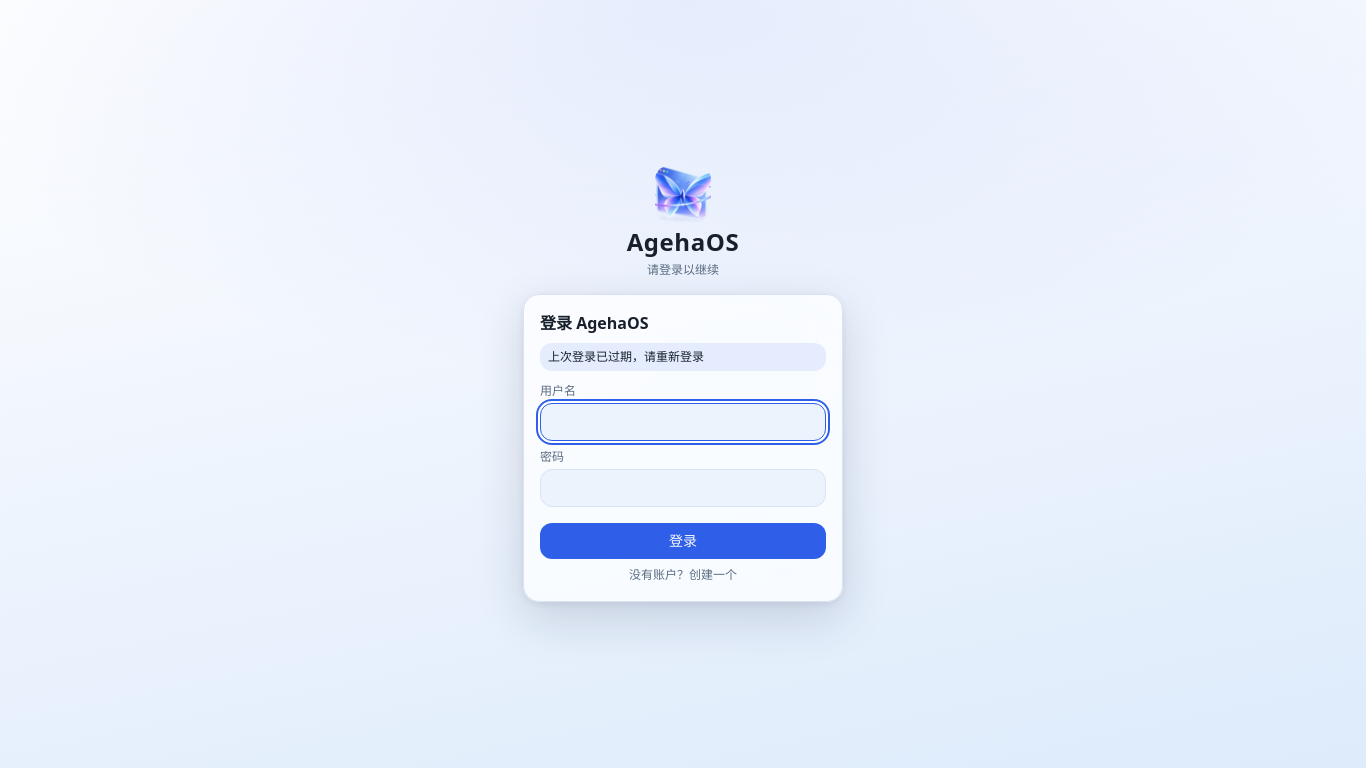
Test: LoginScreen › clears the expired notice when switching modes
Expected: the message "上次登录已过期，请重新登录" is shown, [540, 343, 826, 371]
Click the button "没有账户？创建一个": (683, 575) [540, 567, 826, 583]
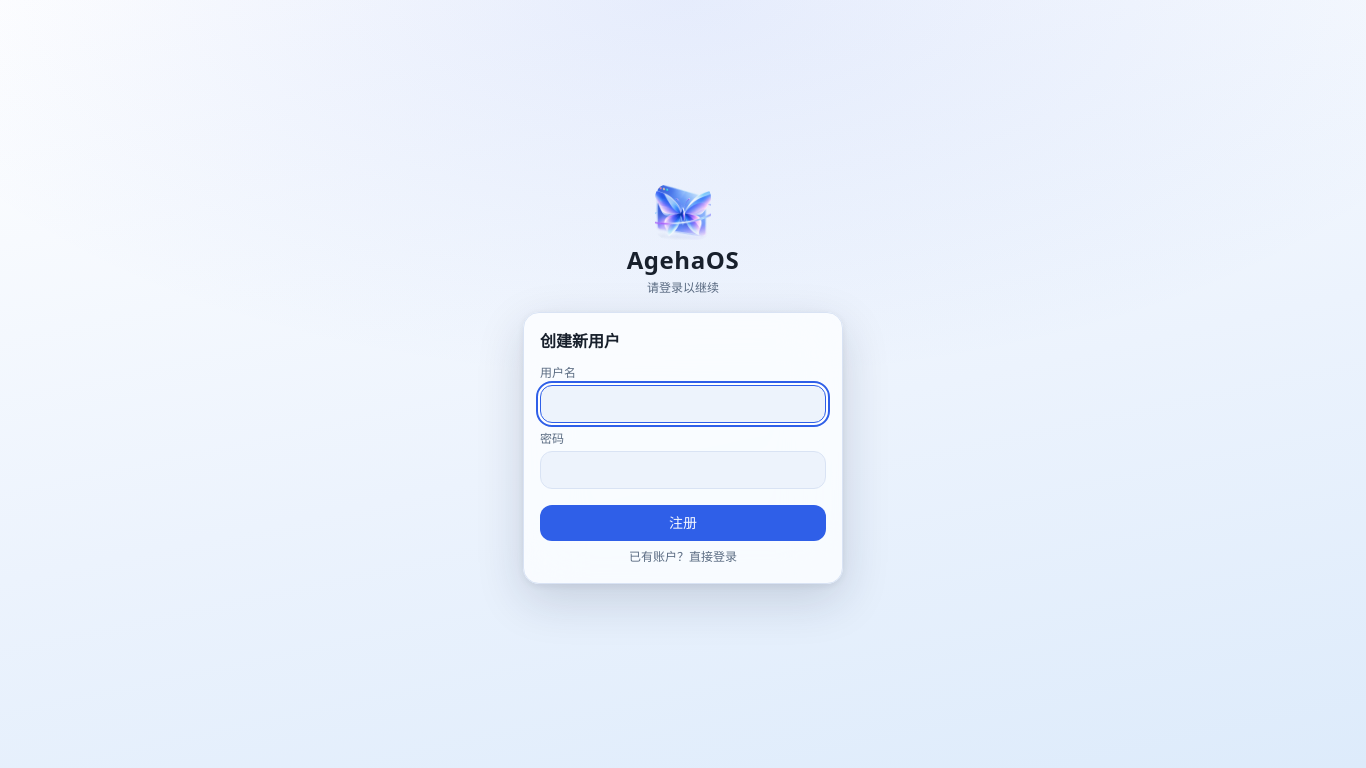
Expected: the message "上次登录已过期，请重新登录" is gone
